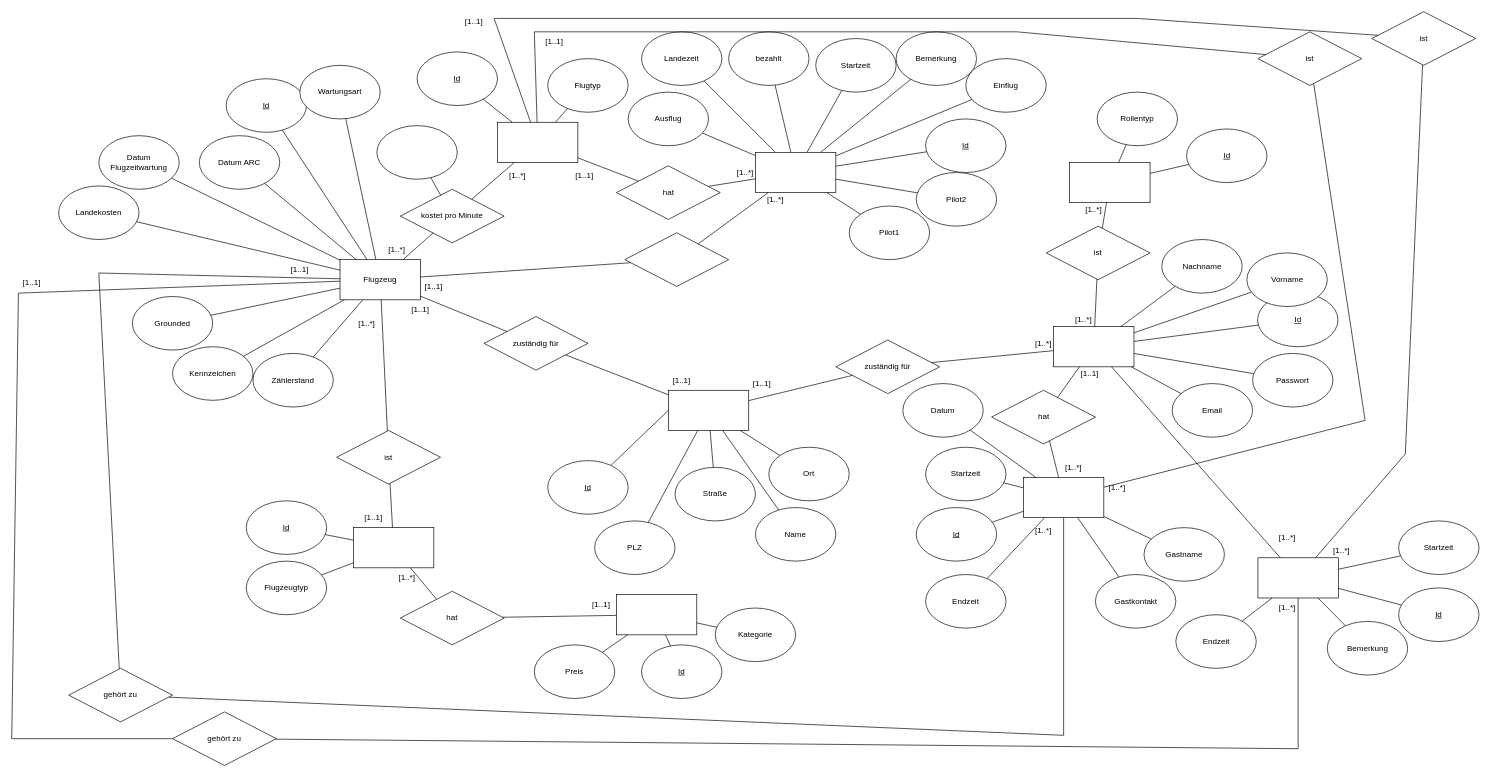
This 1491x777 diagram has some shape labels left out. Each missing label, with the centre of its shape:
"Benutzer" goes at pixel 1093 346.
"Flugart" goes at pixel 537 142.
"Kosten" goes at pixel 416 152.
"Kostenstelle" goes at pixel 708 410.
"Pioltenflug" goes at pixel 1297 577.
"Preiskategorie" goes at pixel 656 614.
"Reservierung" goes at pixel 1063 497.
"Rolle" goes at pixel 1109 182.
"StartLandeListe" goes at pixel 795 172.
"Typ" goes at pixel 393 547.
"verwendet" goes at pixel 676 259.
